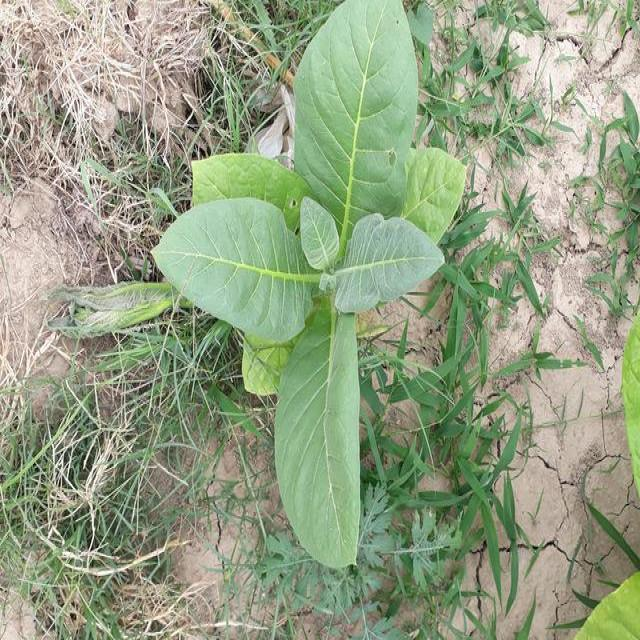crop: (166, 0, 458, 569), (571, 575, 640, 640), (614, 319, 640, 477)
